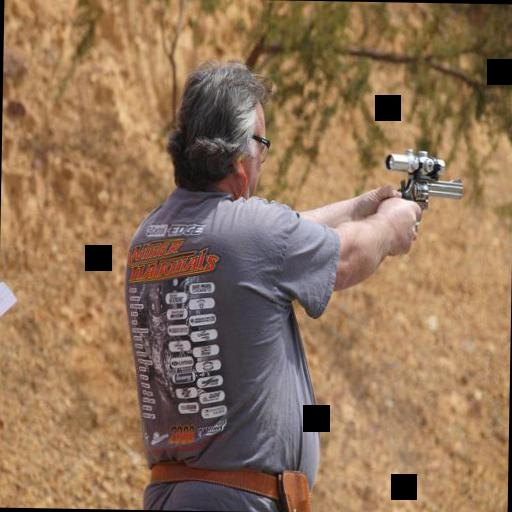Handgun: (381, 148, 464, 212)
